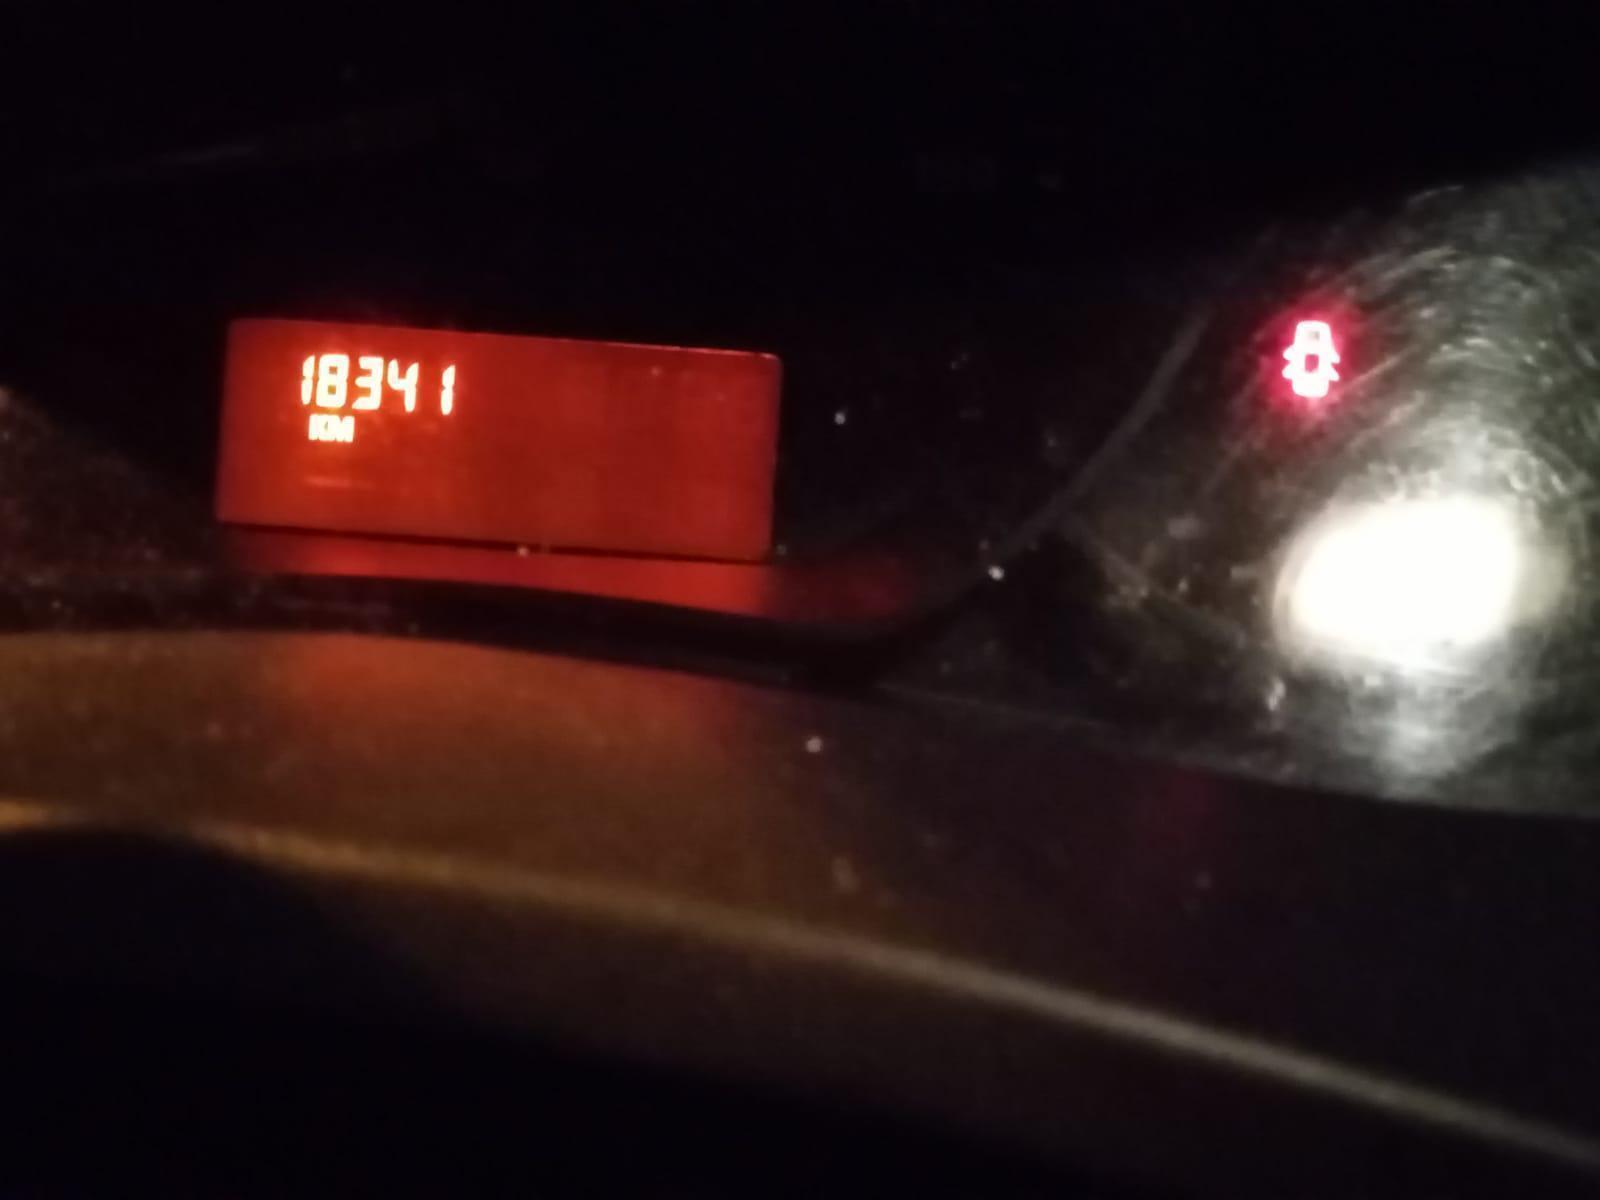1: (438, 364, 455, 416), (300, 354, 315, 405)
3: (350, 355, 384, 411)
4: (386, 357, 420, 413)
8: (314, 352, 349, 408)
X: (328, 413, 354, 442), (307, 413, 328, 441)
odometer: (207, 313, 787, 570)
